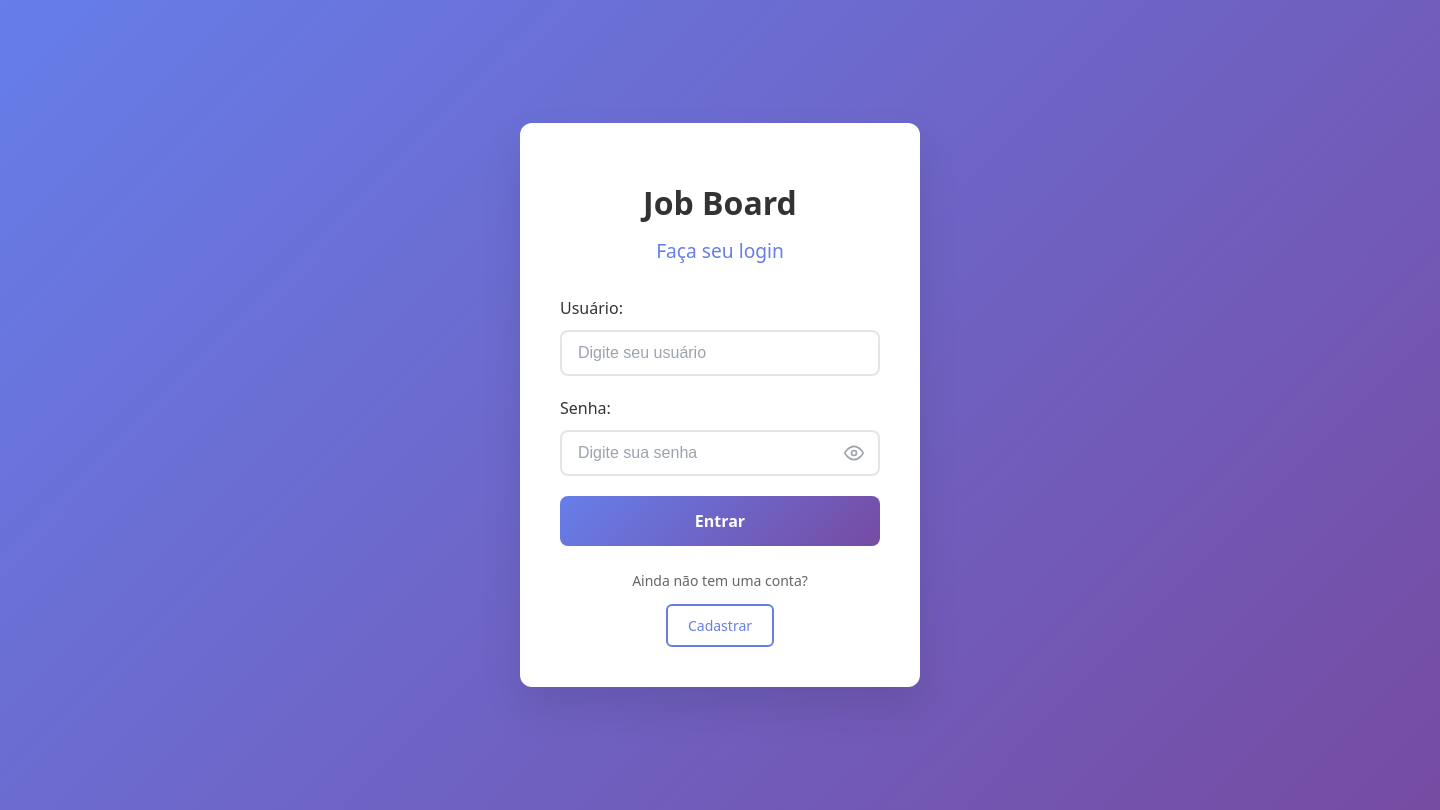
Scenario: Login › shows error when submitting with only password
In the password field labelled "Senha:": {"x": 720, "y": 452} [560,430,880,476], type "testpass"
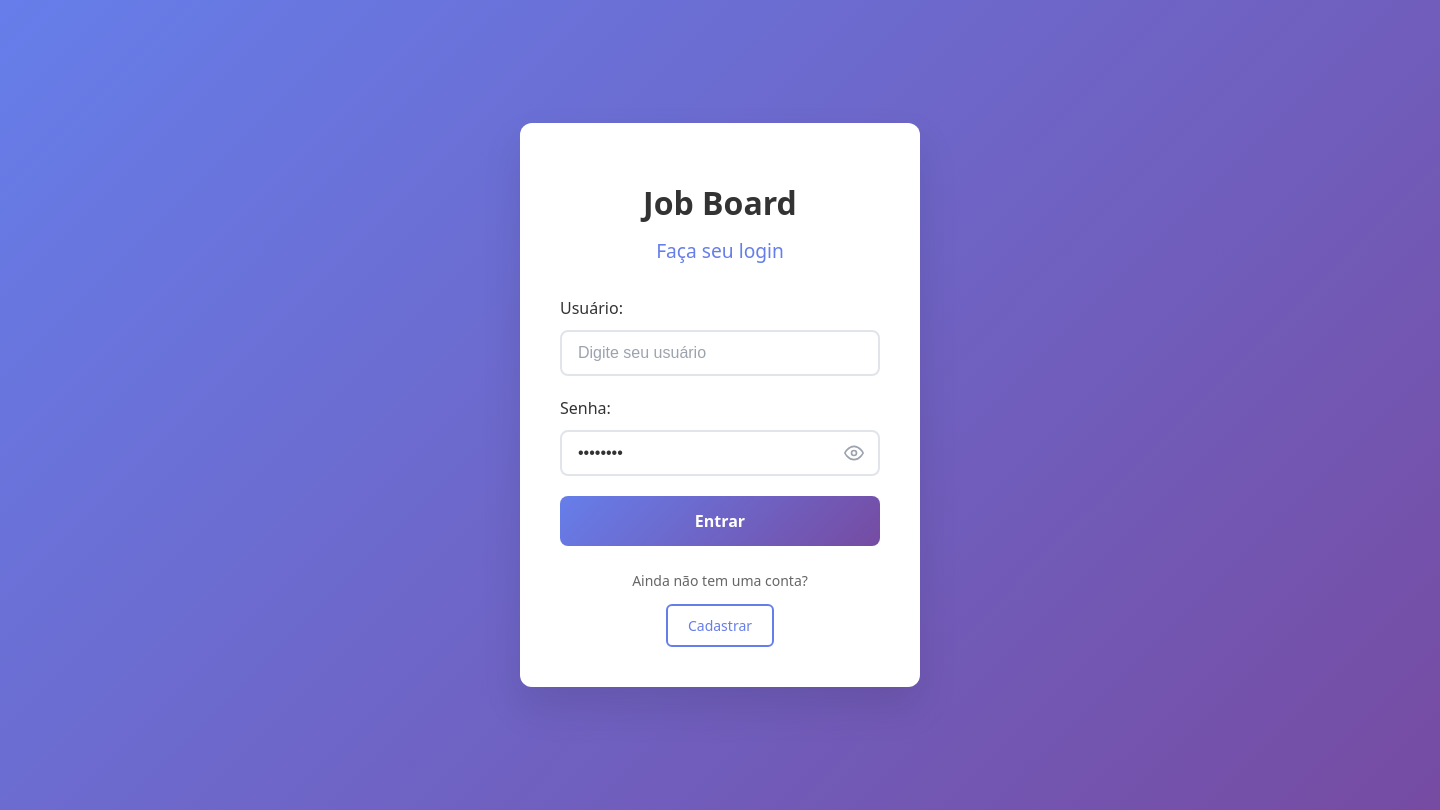
Click the button "Entrar": {"x": 720, "y": 520} [560,496,880,546]
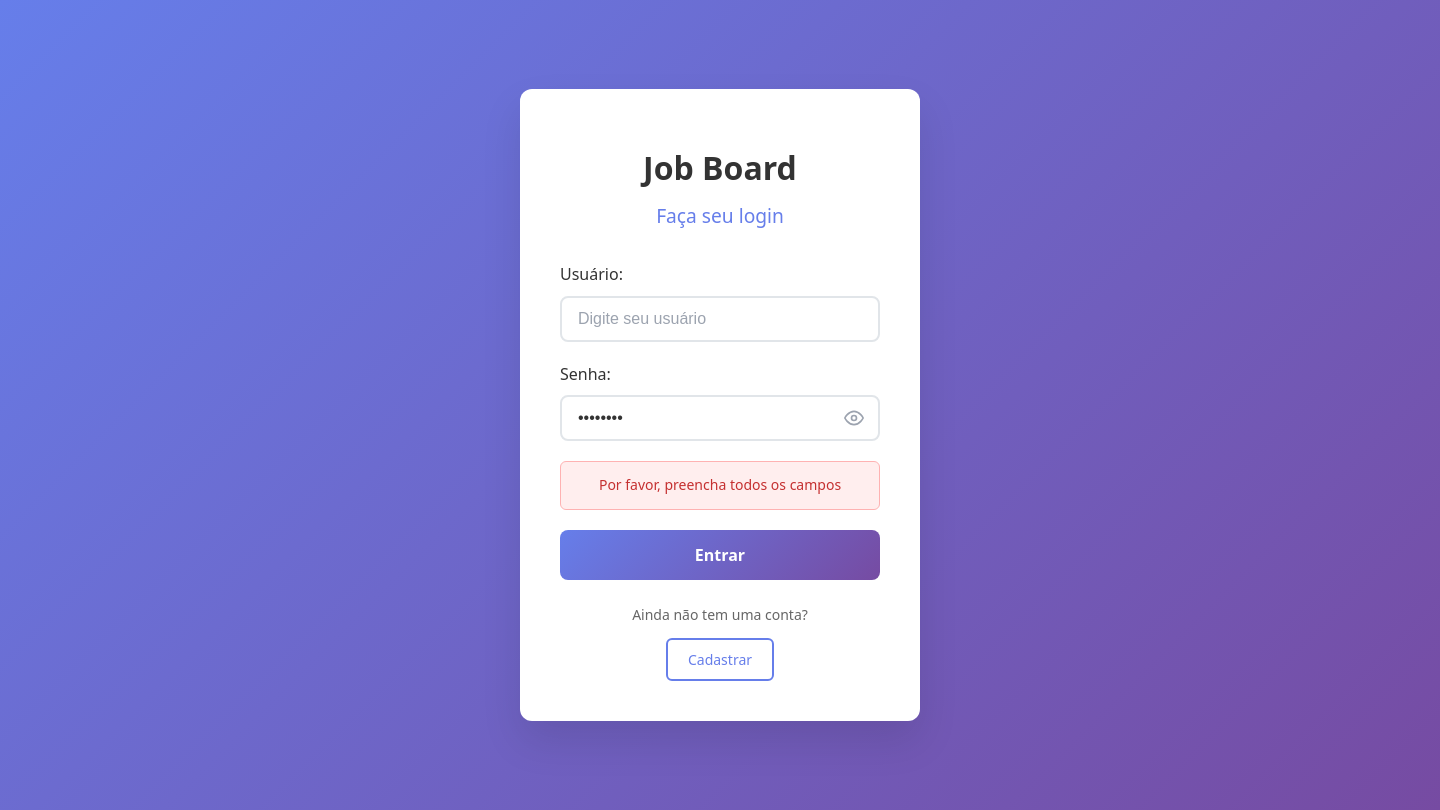
Expected: the text "Por favor, preencha todos os campos" is shown, [560,461,880,510]
